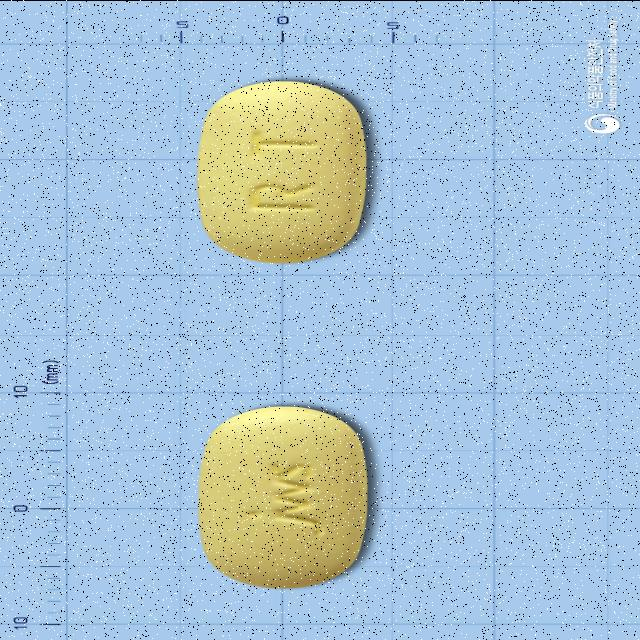Liamclo: (198, 79, 366, 263), (198, 406, 368, 586)
